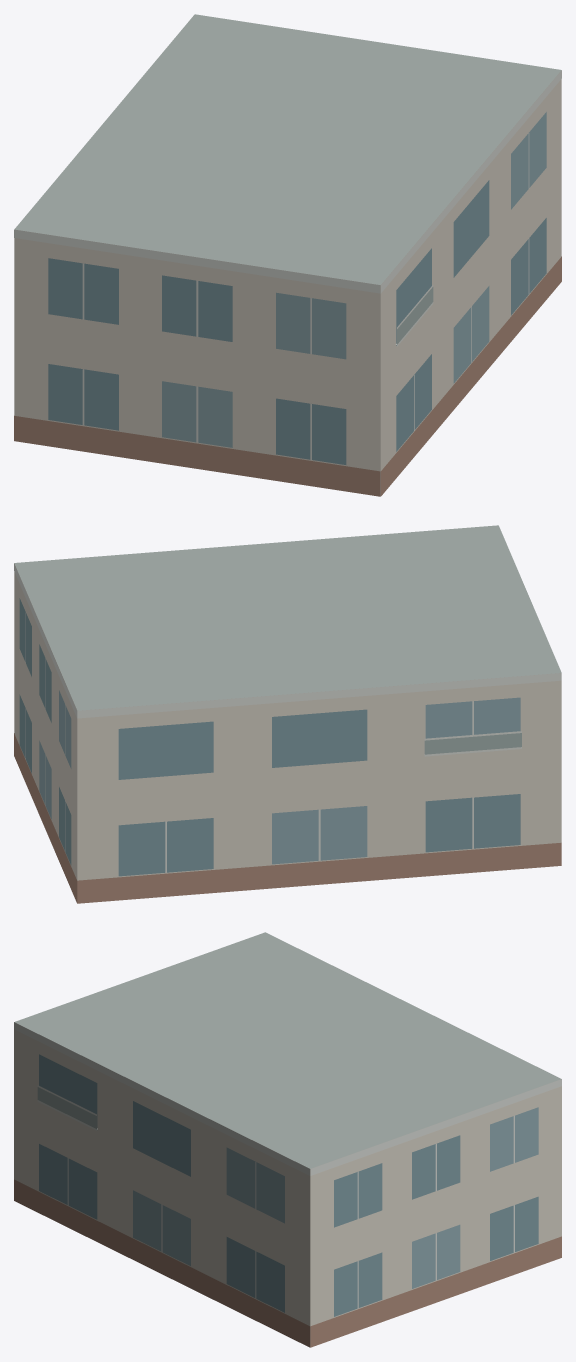
Rendered from survey-upis-32773243.glb.
3 renders of one model, top to bottom at view 1: azimuth 30°, elevation 25°; view 2: azimuth 150°, elevation 25°; view 3: azimuth 270°, elevation 25°, orthographic. The views are drawn at different scales.
Parts seen in each view (by area): view 1: survey-upis-32773243.tmp; view 2: survey-upis-32773243.tmp; view 3: survey-upis-32773243.tmp.
Part boxes in pixels (left/top/right/bottom): survey-upis-32773243.tmp: left=14, top=14, right=561, bottom=496; survey-upis-32773243.tmp: left=14, top=525, right=561, bottom=903; survey-upis-32773243.tmp: left=14, top=932, right=561, bottom=1347.
Size of the model in its own units: 17.34 by 6.1 by 16.95.
